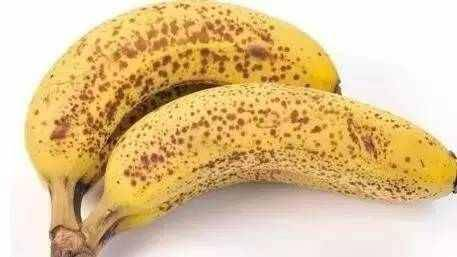Other: (25, 0, 342, 232), (86, 82, 457, 245)
